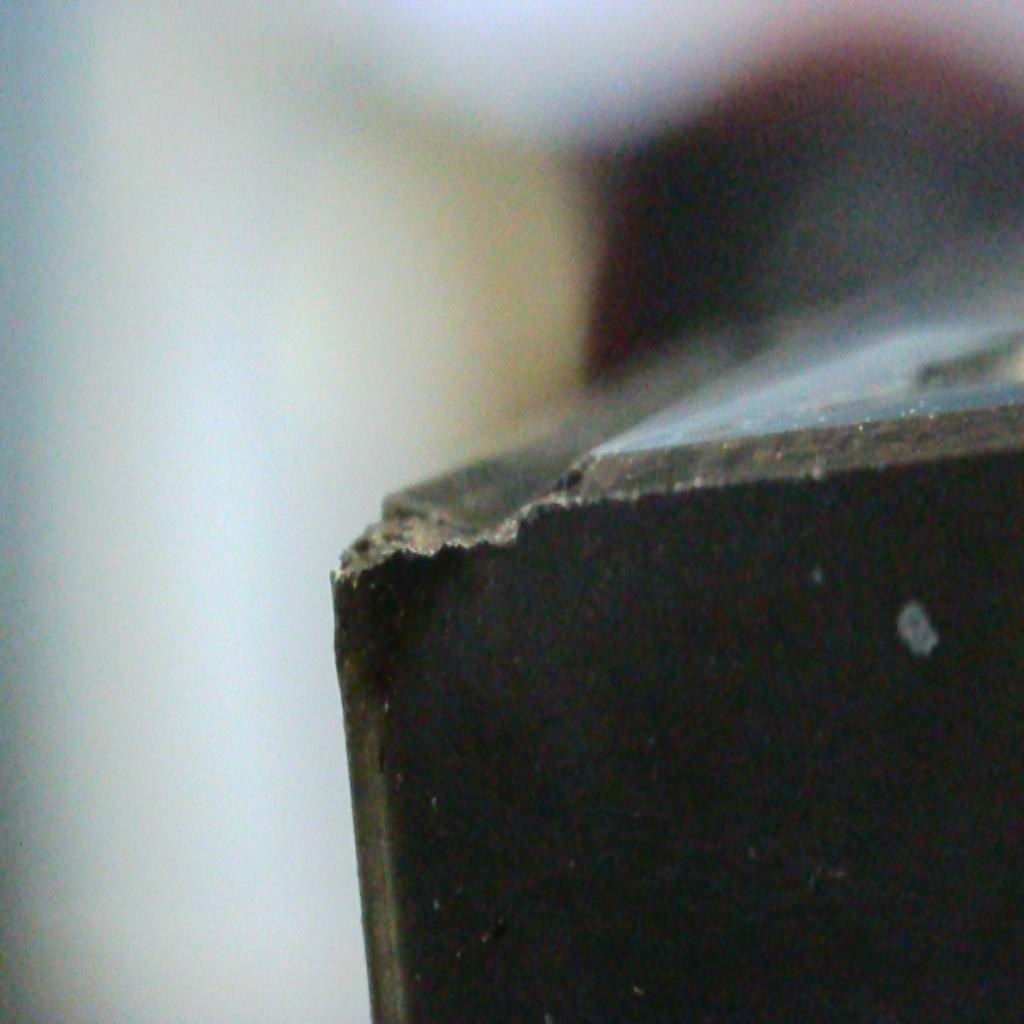flank_wear: (327, 511, 530, 601)
